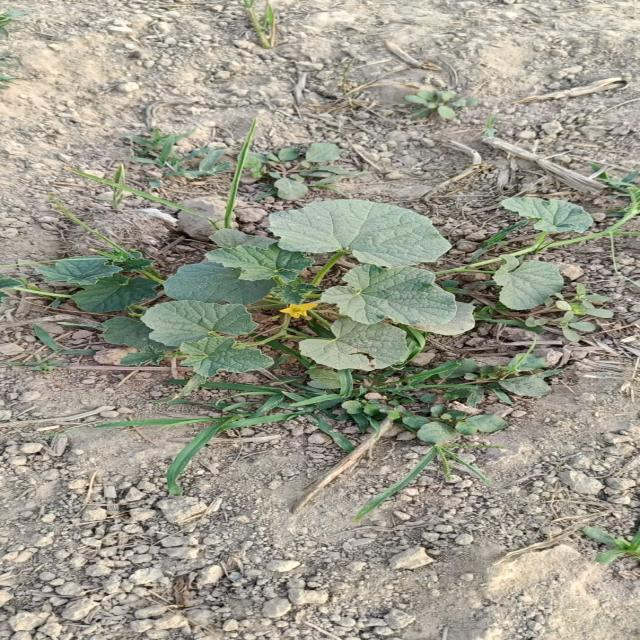plant: (36, 200, 471, 392)
